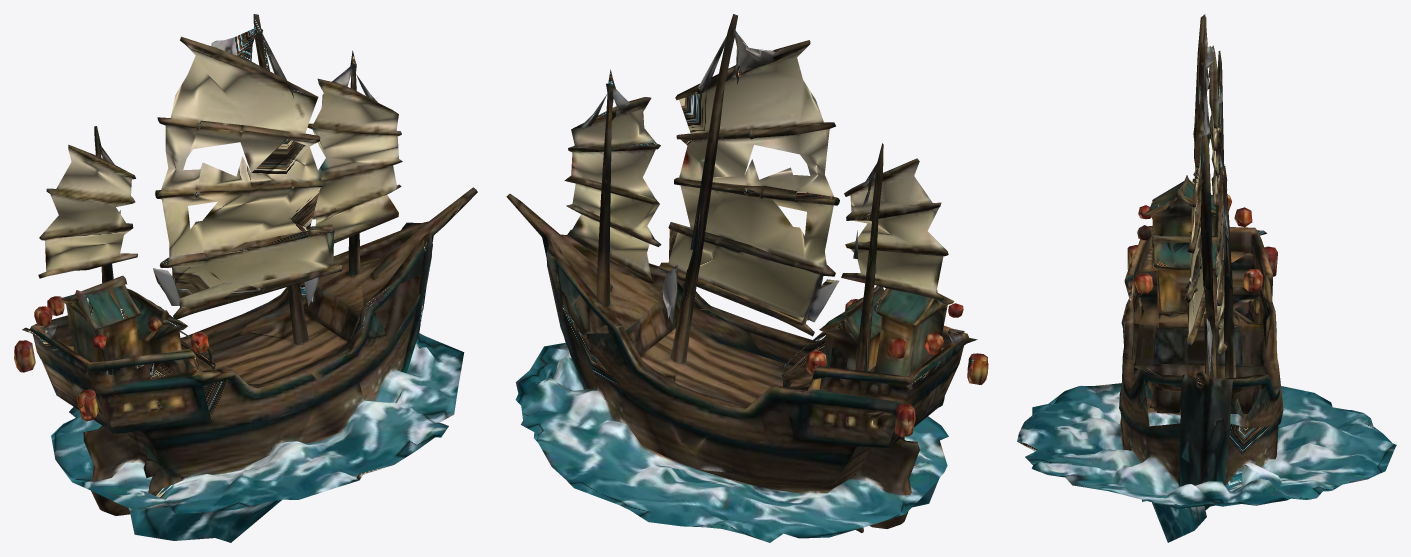
Rendered from junk.glb.
3 views of the same model, side by side, from view 1: azimuth 30°, elevation 25°; view 2: azimuth 150°, elevation 25°; view 3: azimuth 270°, elevation 25° (orthographic). The views are drawn at different scales.
Parts seen in each view (by area): view 1: geometry_0; view 2: geometry_0; view 3: geometry_0.
Boxes of the visible parts, x1,y1,x2,y2 form: geometry_0: (14, 14, 477, 542); geometry_0: (506, 14, 988, 542); geometry_0: (1017, 14, 1396, 542).
Size of the model in its own units: 0.8026 by 0.8655 by 0.6151.
1 material, 1 textured.
